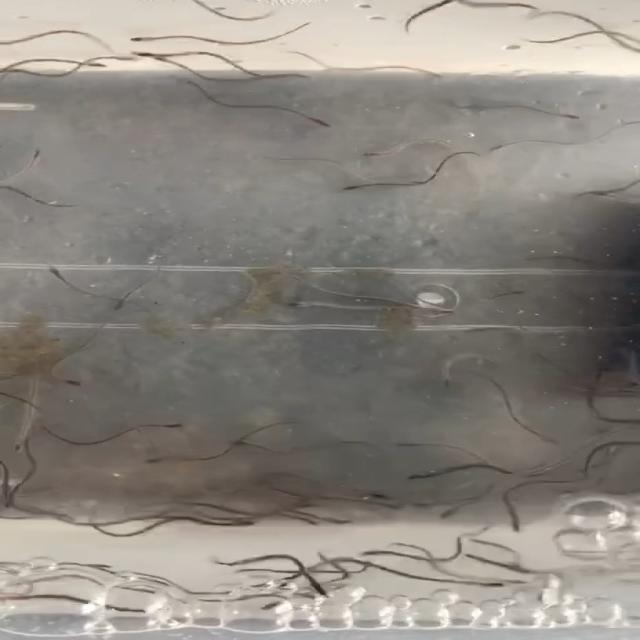active_glass_eel: (270, 288, 321, 318), (510, 423, 567, 449), (36, 259, 84, 289), (382, 433, 433, 457), (347, 485, 408, 505), (51, 372, 99, 397), (422, 370, 468, 396), (419, 298, 468, 321), (0, 437, 50, 459), (389, 466, 439, 487), (140, 452, 193, 470), (213, 433, 265, 451), (301, 577, 340, 601), (300, 110, 342, 132), (152, 416, 190, 440), (216, 512, 259, 532), (245, 598, 290, 617), (480, 139, 524, 158), (501, 516, 539, 536), (454, 549, 496, 567), (553, 109, 590, 129), (426, 505, 461, 526), (324, 512, 359, 532), (19, 145, 62, 161), (124, 28, 160, 47), (476, 576, 514, 594), (328, 182, 369, 198), (352, 546, 388, 562), (354, 147, 384, 165), (292, 512, 321, 530), (82, 61, 122, 72), (146, 55, 178, 68), (98, 54, 132, 65), (505, 573, 528, 588), (120, 50, 170, 56)
